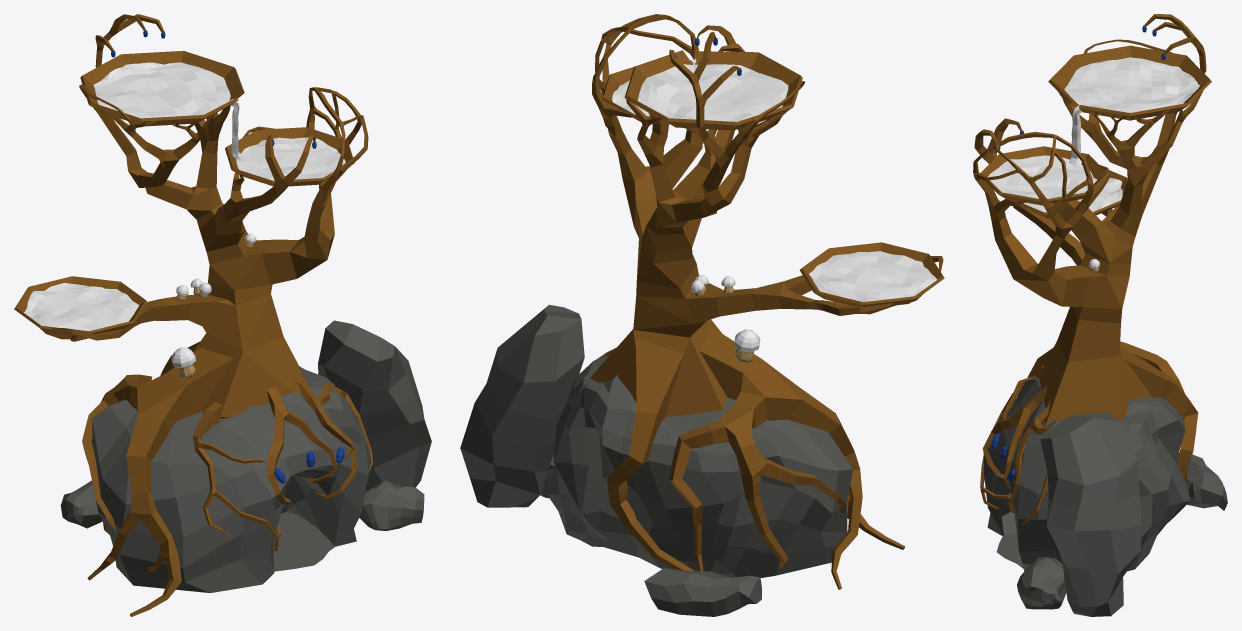
Rendered from shelterWATER1.fbx.
The picture shows the model from 3 angles, left to right: view 1: azimuth 30°, elevation 25°; view 2: azimuth 150°, elevation 25°; view 3: azimuth 270°, elevation 25°; orthographic projection. The views are drawn at different scales.
Parts seen in each view (by area): view 1: Cube.009, Cube.008, Cylinder, Plane, Cube.011, Plane.003, Circle, Plane.002, Cube.010, Plane.001, Circle.001, Circle.002 (+1 smaller); view 2: Cube.009, Cube.008, Cylinder, Plane, Plane.003, Cylinder.001, Circle, Circle.002; view 3: Cube.009, Cylinder, Cube.008, Plane, Circle, Cube.011, Plane.002, Cube.010, Circle.001, Cylinder.001, Plane.003, Plane.001 (+2 smaller).
Part boxes in pixels (<box>): Cube.009: <box>40,14,368,616</box>; Cube.008: <box>92,366,370,592</box>; Cylinder: <box>318,320,431,490</box>; Plane: <box>93,62,230,118</box>; Cube.011: <box>192,382,372,551</box>; Plane.003: <box>23,283,139,331</box>; Circle: <box>80,50,244,126</box>; Plane.002: <box>236,137,345,180</box>; Cube.010: <box>359,480,424,530</box>; Plane.001: <box>273,512,337,571</box>; Circle.001: <box>225,127,354,186</box>; Circle.002: <box>14,276,147,336</box>; Cube.009: <box>590,14,943,589</box>; Cube.008: <box>546,354,853,577</box>; Cylinder: <box>460,304,584,507</box>; Plane: <box>637,64,788,121</box>; Plane.003: <box>809,251,937,301</box>; Cylinder.001: <box>644,568,761,616</box>; Circle: <box>624,50,802,130</box>; Circle.002: <box>799,242,944,306</box>; Cube.009: <box>973,14,1206,483</box>; Cylinder: <box>1040,412,1141,616</box>; Cube.008: <box>983,376,1190,571</box>; Plane: <box>1064,57,1199,112</box>; Circle: <box>1048,45,1211,120</box>; Cube.011: <box>980,366,1051,524</box>; Plane.002: <box>988,155,1097,198</box>; Cube.010: <box>1017,557,1066,609</box>; Circle.001: <box>980,146,1107,205</box>; Cylinder.001: <box>1178,452,1227,510</box>; Plane.003: <box>1023,177,1122,212</box>; Plane.001: <box>996,534,1023,568</box>.
Bounding box in the file's own units: 461 × 558 × 258.
